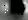person: (22, 1, 28, 16), (5, 3, 10, 15)
